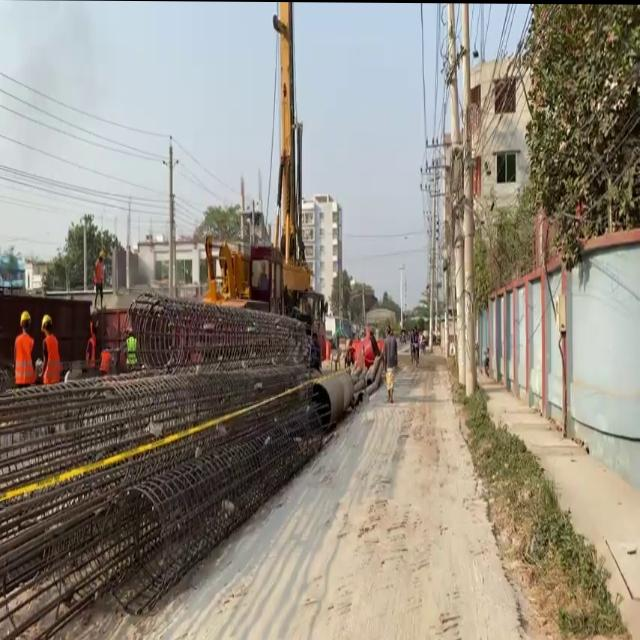Car: (0, 352, 379, 640)
Fallen-tree: (383, 364, 396, 402)
Garbage-bin: (39, 313, 61, 384), (13, 319, 36, 386), (92, 249, 106, 309), (124, 328, 138, 368)
Light-pole: (456, 3, 477, 398)
Pothole: (474, 364, 639, 640)
Traffic-cone: (198, 1, 331, 373)
